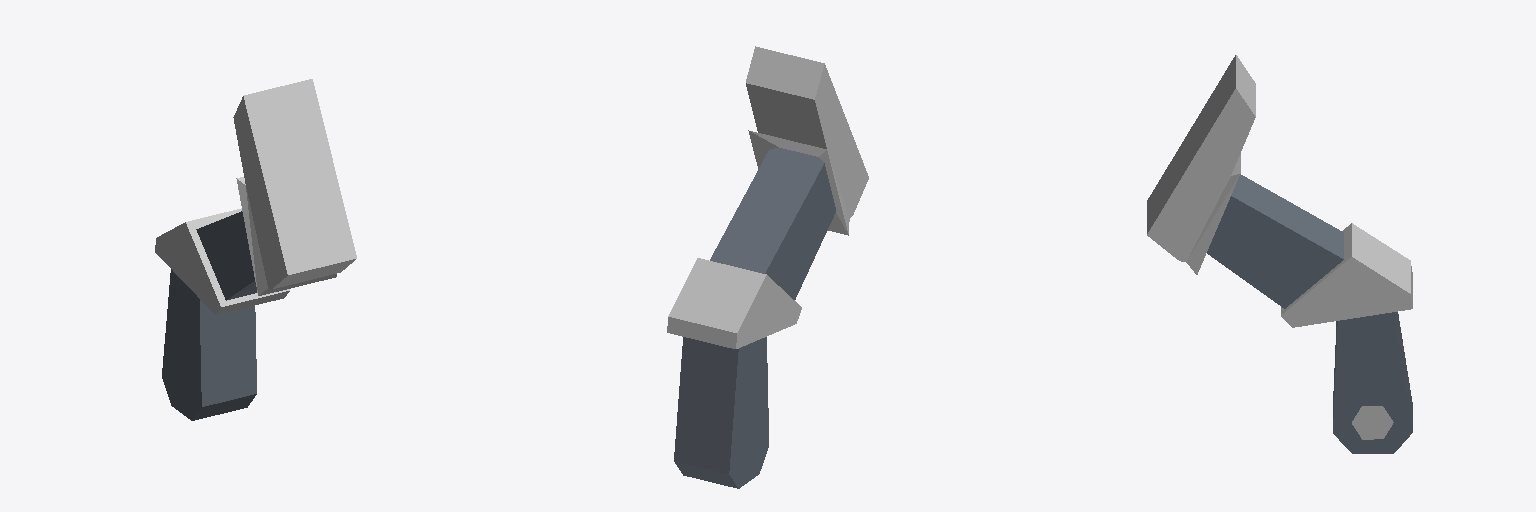
The model's file is leg_upper_L.obj.
The picture shows the model from 3 angles: view 1: azimuth 30°, elevation 25°; view 2: azimuth 150°, elevation 25°; view 3: azimuth 270°, elevation 25°; orthographic projection.
Visible parts, largest first — view 1: robo_Untitled.015; view 2: robo_Untitled.015; view 3: robo_Untitled.015.
Part boxes in pixels (x1,y1,x2,y2): robo_Untitled.015: (155, 79, 356, 420); robo_Untitled.015: (667, 46, 868, 488); robo_Untitled.015: (1147, 55, 1412, 453).
Bounding box in the file's own units: 0.3394 × 1.52 × 0.9953.